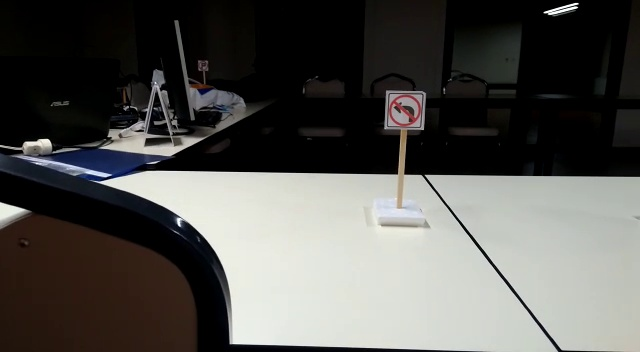sola_donulmez: (382, 91, 420, 126)
